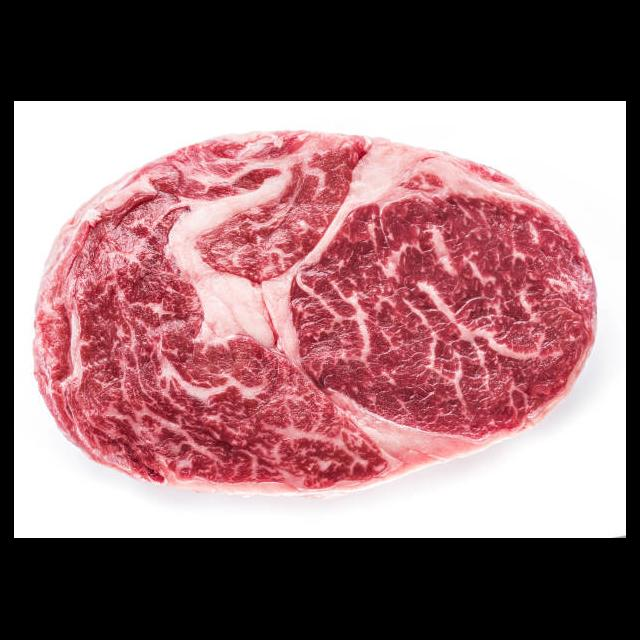beef: (30, 130, 598, 497)
